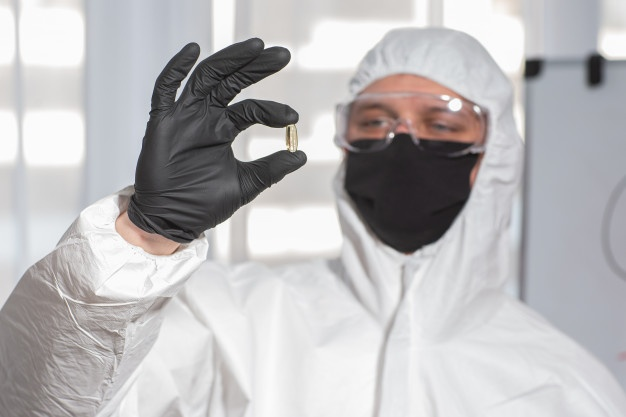Coverall: (78, 26, 584, 417)
Gloves: (123, 32, 305, 241)
Goggles: (330, 92, 491, 163)
